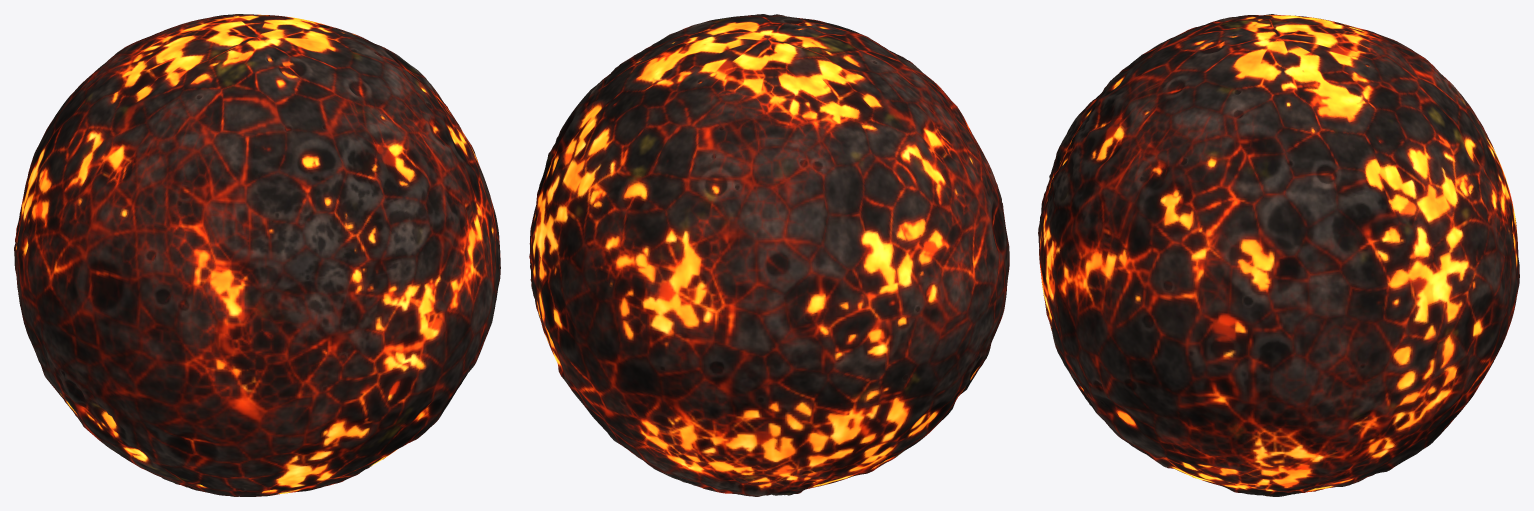
Rendered from planet.glb.
3 views of the same model, side by side, from view 1: azimuth 30°, elevation 25°; view 2: azimuth 150°, elevation 25°; view 3: azimuth 270°, elevation 25° (orthographic).
Visible parts, largest first — view 1: Planet; view 2: Planet; view 3: Planet.
Part boxes in pixels (bbox=[...]): Planet: bbox=[14, 14, 500, 496]; Planet: bbox=[529, 14, 1009, 496]; Planet: bbox=[1038, 14, 1519, 496].
Bounding box in the file's own units: 4.08 × 4.04 × 4.03.
Materials: 1 (1 with a texture image).
